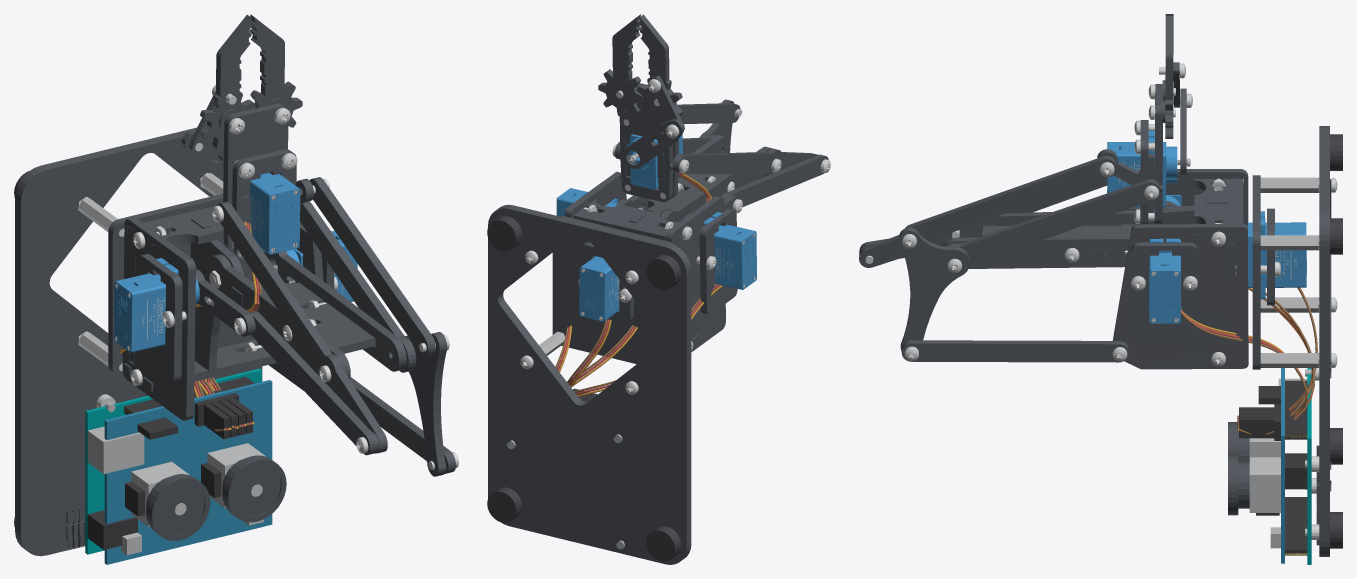
Rendered from braco_completo_com_componentes.glb.
3 renders of one model, left to right at view 1: azimuth 30°, elevation 25°; view 2: azimuth 150°, elevation 25°; view 3: azimuth 270°, elevation 25°, orthographic. The views are drawn at different scales.
Visible parts, largest first — view 1: mecanica_braco_pecas_impressas_pla, printed_01_Base_Chassi_Inferior, shield_2_joysticks_arduino, servos_sg90_4x_azul, arduino_uno_r3, cruzetas_horns_nylon_branco, conectores_dupont_femea_shield, chicote_cabos_fita_3_vias, espacador_metalico_m3_24mm_4, espacador_metalico_m3_24mm_2; view 2: printed_01_Base_Chassi_Inferior, mecanica_braco_pecas_impressas_pla, servos_sg90_4x_azul, cruzetas_horns_nylon_branco, chicote_cabos_fita_3_vias, pe_tpu_1, pe_tpu_4, pe_tpu_3, pe_tpu_2; view 3: mecanica_braco_pecas_impressas_pla, servos_sg90_4x_azul, shield_2_joysticks_arduino, printed_01_Base_Chassi_Inferior, arduino_uno_r3, cruzetas_horns_nylon_branco, chicote_cabos_fita_3_vias, conectores_dupont_femea_shield, espacador_metalico_m3_24mm_3, espacador_metalico_m3_24mm_4, espacador_metalico_m3_24mm_1, espacador_metalico_m3_24mm_2.
Boxes of the visible parts, bbox=[...] form: mecanica_braco_pecas_impressas_pla: bbox=[66, 14, 455, 550]; printed_01_Base_Chassi_Inferior: bbox=[15, 127, 262, 556]; shield_2_joysticks_arduino: bbox=[104, 380, 286, 564]; servos_sg90_4x_azul: bbox=[113, 172, 357, 352]; arduino_uno_r3: bbox=[85, 368, 261, 554]; cruzetas_horns_nylon_branco: bbox=[78, 85, 458, 469]; conectores_dupont_femea_shield: bbox=[204, 397, 252, 439]; chicote_cabos_fita_3_vias: bbox=[119, 221, 261, 431]; espacador_metalico_m3_24mm_4: bbox=[78, 198, 117, 231]; espacador_metalico_m3_24mm_2: bbox=[78, 332, 108, 366]; printed_01_Base_Chassi_Inferior: bbox=[488, 204, 691, 564]; mecanica_braco_pecas_impressas_pla: bbox=[497, 14, 828, 549]; servos_sg90_4x_azul: bbox=[556, 134, 756, 321]; cruzetas_horns_nylon_branco: bbox=[520, 79, 830, 394]; chicote_cabos_fita_3_vias: bbox=[555, 173, 722, 396]; pe_tpu_1: bbox=[646, 526, 681, 561]; pe_tpu_4: bbox=[487, 216, 522, 251]; pe_tpu_3: bbox=[646, 254, 681, 290]; pe_tpu_2: bbox=[487, 487, 522, 522]; mecanica_braco_pecas_impressas_pla: bbox=[859, 14, 1331, 545]; servos_sg90_4x_azul: bbox=[1107, 130, 1306, 323]; shield_2_joysticks_arduino: bbox=[1228, 368, 1307, 563]; printed_01_Base_Chassi_Inferior: bbox=[1319, 126, 1329, 556]; arduino_uno_r3: bbox=[1278, 368, 1319, 564]; cruzetas_horns_nylon_branco: bbox=[865, 63, 1337, 367]; chicote_cabos_fita_3_vias: bbox=[1181, 272, 1317, 434]; conectores_dupont_femea_shield: bbox=[1239, 407, 1274, 438]; espacador_metalico_m3_24mm_3: bbox=[1260, 235, 1319, 250]; espacador_metalico_m3_24mm_4: bbox=[1260, 177, 1319, 192]; espacador_metalico_m3_24mm_1: bbox=[1260, 353, 1319, 367]; espacador_metalico_m3_24mm_2: bbox=[1260, 297, 1319, 312].
Bounding box in the file's own units: 95.19 × 216 × 185.
